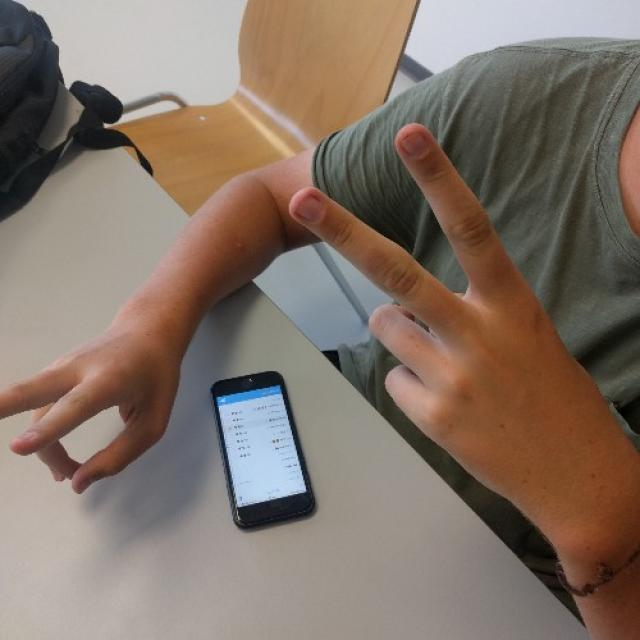scissors: (293, 122, 520, 470)
